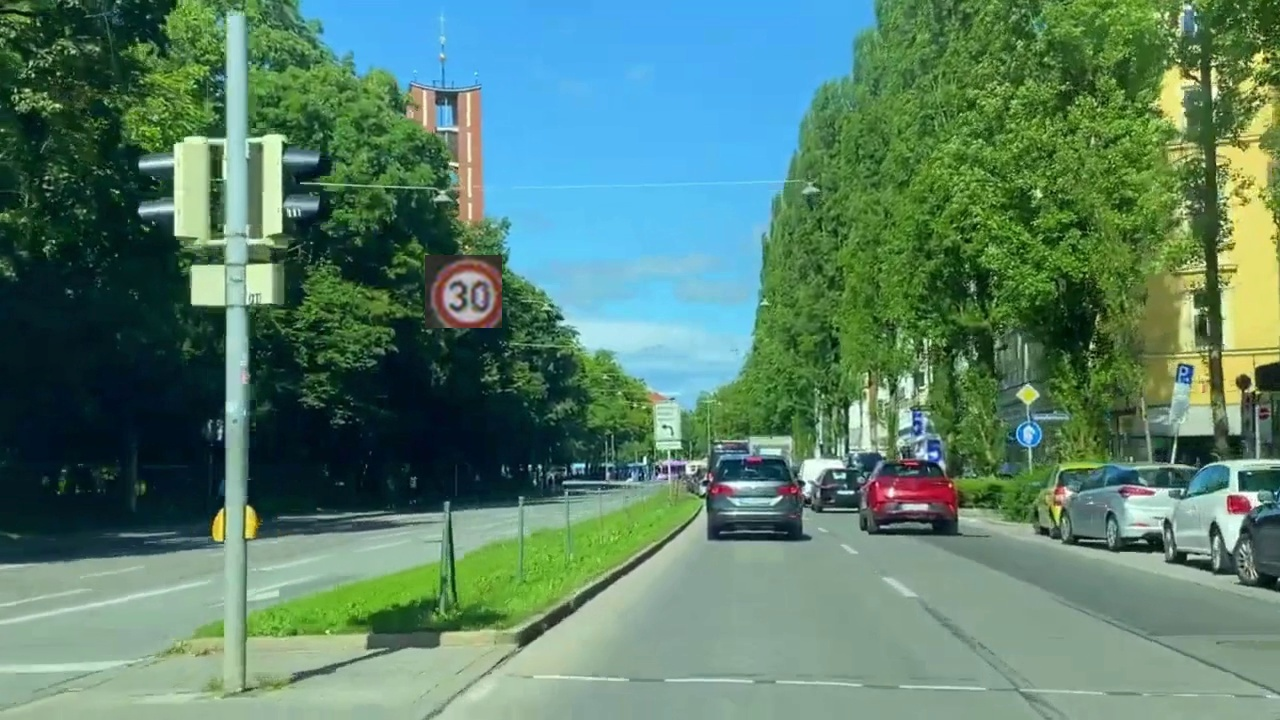Speed 30: (425, 255, 502, 328)
